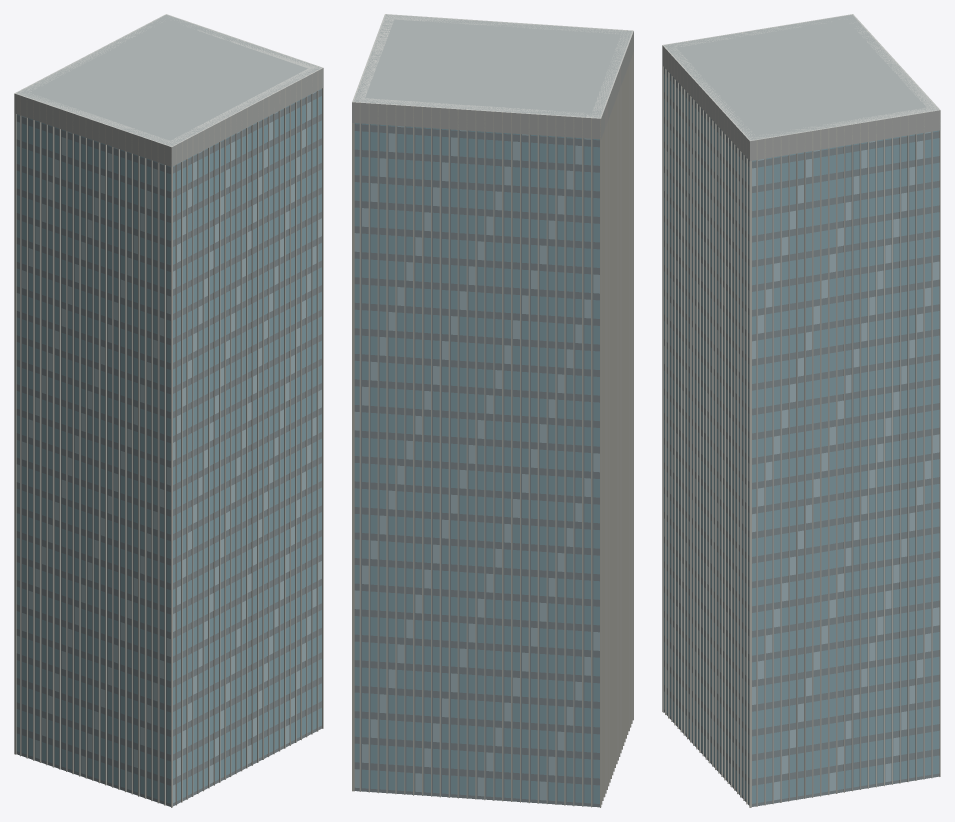
File: civic-bf583559-eafa-46e0-af87-aec6a67e024d.glb
3 renders of one model, left to right at view 1: azimuth 30°, elevation 25°; view 2: azimuth 150°, elevation 25°; view 3: azimuth 270°, elevation 25°, orthographic. The views are drawn at different scales.
Visible parts, largest first — view 1: civic-bf583559-eafa-46e0-af87-aec6a67e024d; view 2: civic-bf583559-eafa-46e0-af87-aec6a67e024d; view 3: civic-bf583559-eafa-46e0-af87-aec6a67e024d.
Boxes of the visible parts, x1=… form: civic-bf583559-eafa-46e0-af87-aec6a67e024d: x1=14, y1=14, x2=323, y2=807; civic-bf583559-eafa-46e0-af87-aec6a67e024d: x1=352, y1=14, x2=633, y2=807; civic-bf583559-eafa-46e0-af87-aec6a67e024d: x1=662, y1=14, x2=940, y2=807.
Size of the model in its own units: 54.43 by 133 by 50.34.
